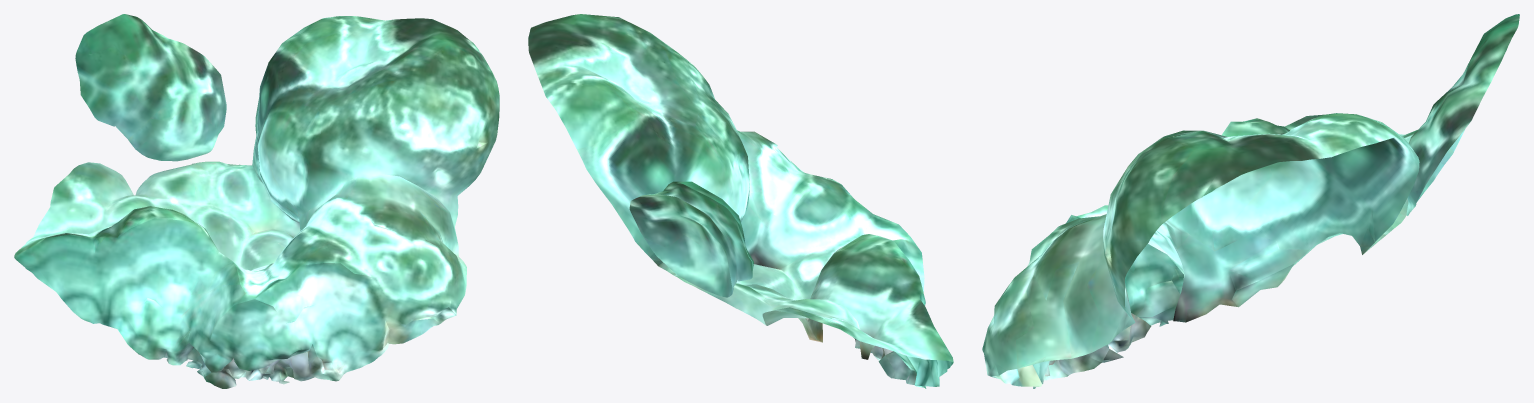
The model's file is stein.glb.
3 views of the same model, side by side, from view 1: azimuth 30°, elevation 25°; view 2: azimuth 150°, elevation 25°; view 3: azimuth 270°, elevation 25° (orthographic). The views are drawn at different scales.
Visible parts, largest first — view 1: Mesh_0; view 2: Mesh_0; view 3: Mesh_0.
Part boxes in pixels (left/top/right/bottom): Mesh_0: left=14, top=14, right=499, bottom=388; Mesh_0: left=528, top=14, right=953, bottom=388; Mesh_0: left=982, top=14, right=1519, bottom=388.
Size of the model in its own units: 0.8086 by 0.4948 by 0.673.
1 material, 1 textured.
